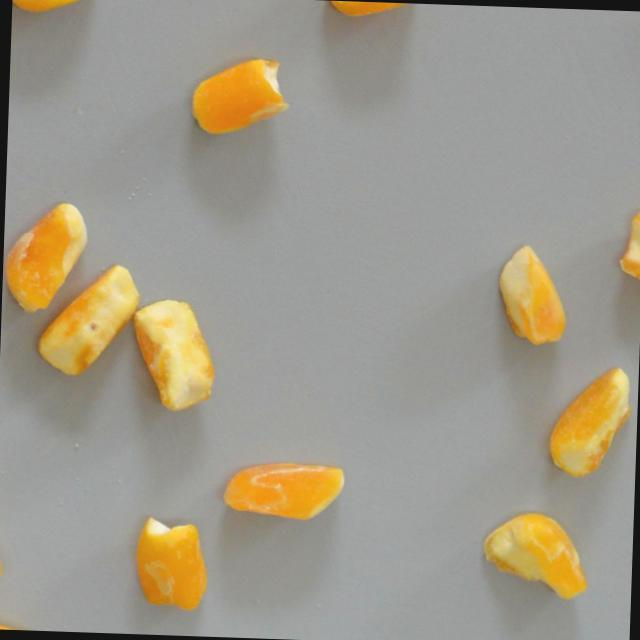dañado: (36, 261, 140, 382)
estandar: (323, 0, 421, 19), (11, 0, 97, 17)
pelicula: (478, 509, 594, 602), (126, 297, 216, 413), (1, 200, 88, 315), (547, 366, 632, 478), (189, 57, 289, 138), (220, 460, 346, 522), (132, 515, 210, 613), (496, 244, 569, 347), (616, 210, 640, 299), (0, 471, 7, 589), (0, 617, 41, 630)
